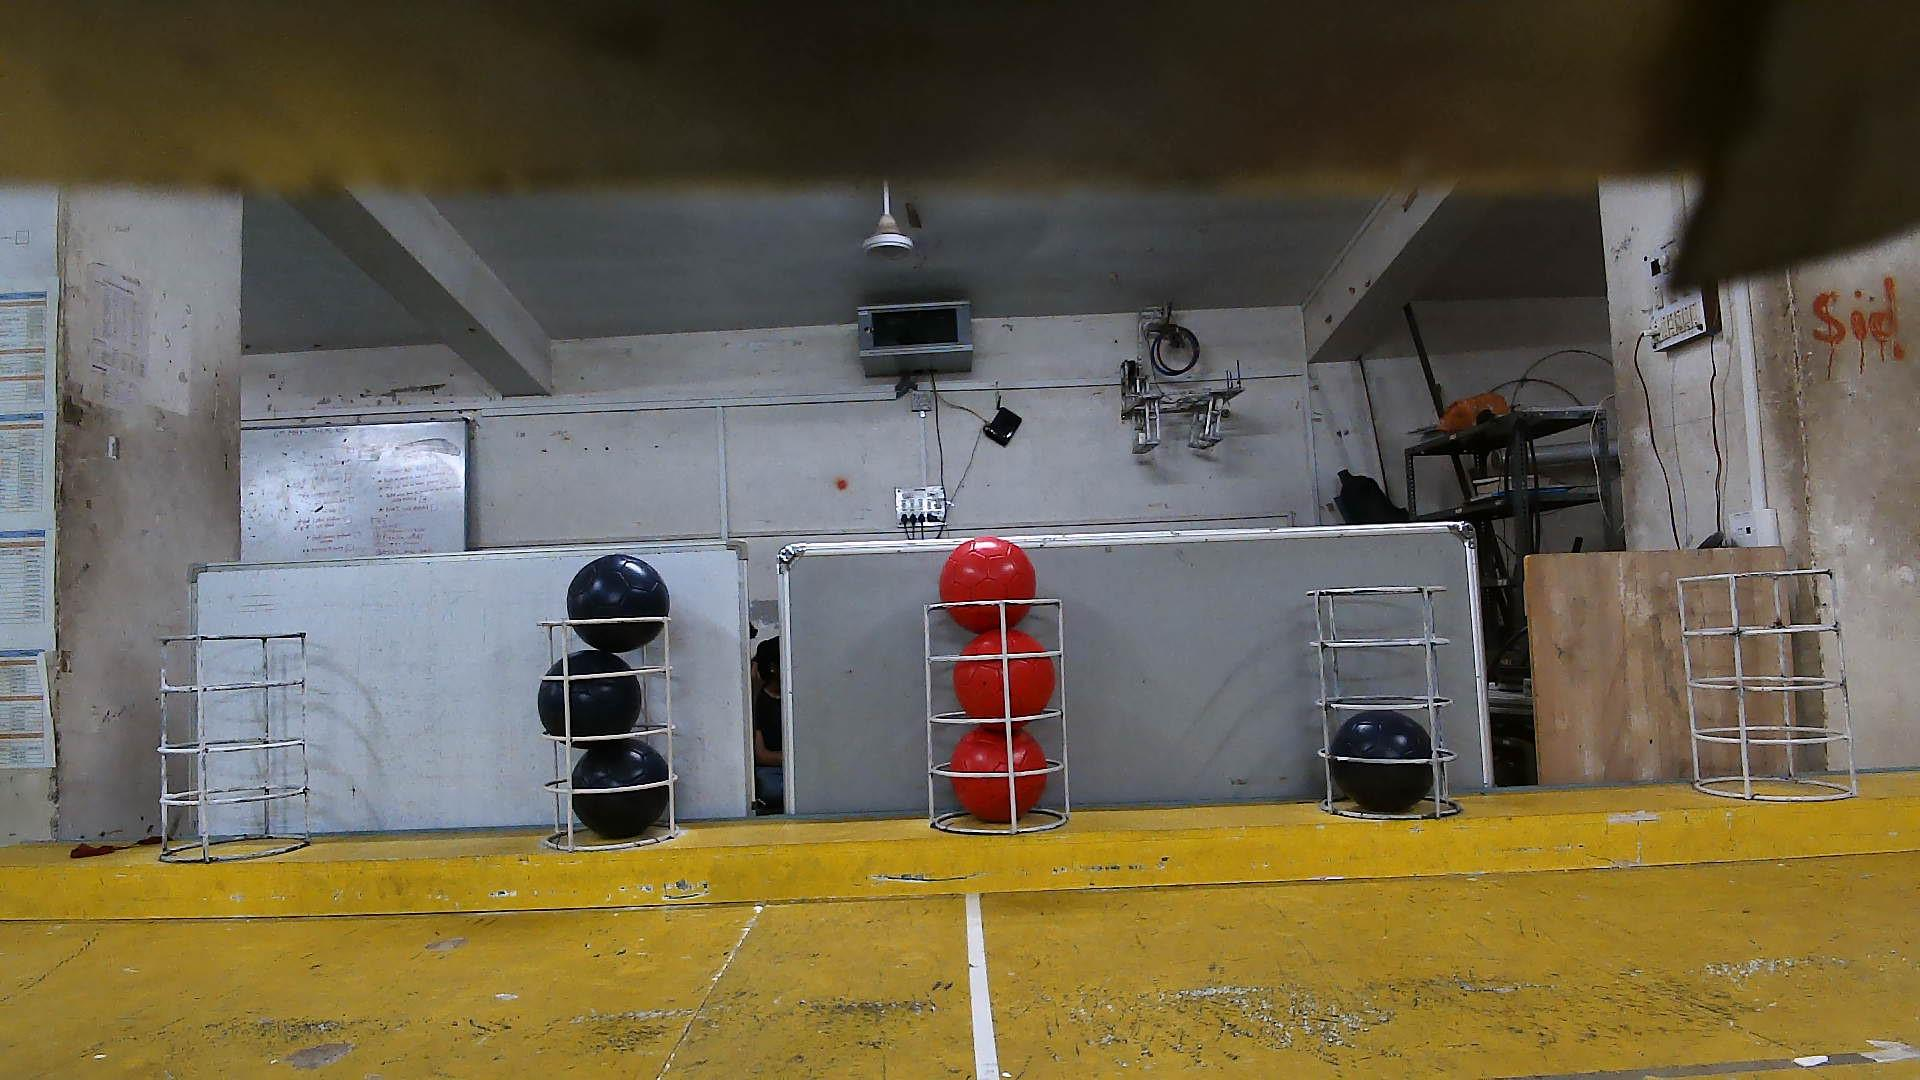dhoka: (1331, 712, 1433, 812), (567, 554, 670, 654), (541, 651, 640, 749), (574, 740, 670, 836)
laale: (953, 632, 1054, 729), (952, 724, 1046, 822), (942, 538, 1035, 633)
